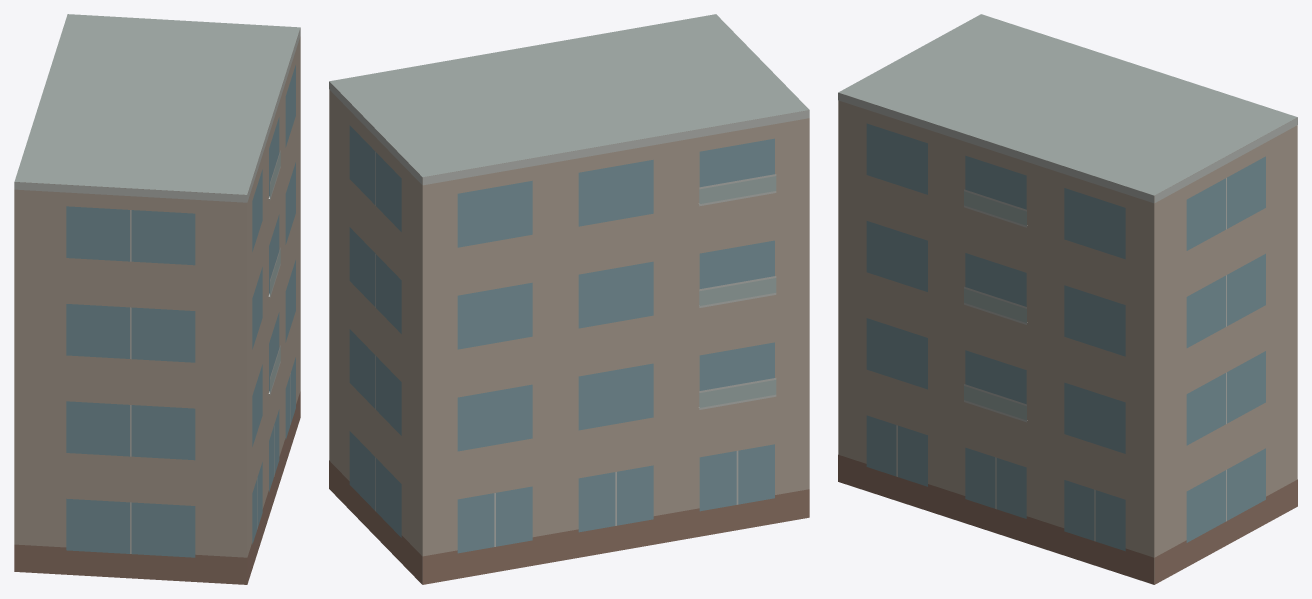
File: residential-4678ed26-ba1e-47a7-bb3b-9279bdf4a207.glb
The picture shows the model from 3 angles, left to right: view 1: azimuth 30°, elevation 25°; view 2: azimuth 150°, elevation 25°; view 3: azimuth 270°, elevation 25°; orthographic projection. The views are drawn at different scales.
Visible parts, largest first — view 1: residential-4678ed26-ba1e-47a7-bb3b-9279bdf4a207.tmp; view 2: residential-4678ed26-ba1e-47a7-bb3b-9279bdf4a207.tmp; view 3: residential-4678ed26-ba1e-47a7-bb3b-9279bdf4a207.tmp.
Part boxes in pixels (<box>): residential-4678ed26-ba1e-47a7-bb3b-9279bdf4a207.tmp: <box>14,14,300,584</box>; residential-4678ed26-ba1e-47a7-bb3b-9279bdf4a207.tmp: <box>329,14,809,584</box>; residential-4678ed26-ba1e-47a7-bb3b-9279bdf4a207.tmp: <box>838,14,1297,584</box>.
Size of the model in its own units: 12.22 by 12.2 by 13.07.
